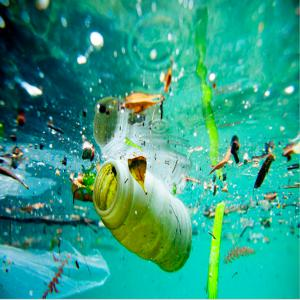Plastic-bottle: (93, 159, 194, 275)
